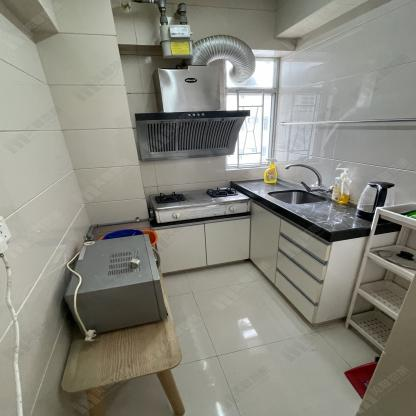Cupboard: (252, 203, 328, 327), (152, 216, 254, 275)
Exhaust Hood: (136, 68, 248, 161)
Sink: (269, 187, 328, 205)
Stove: (149, 185, 249, 222)
